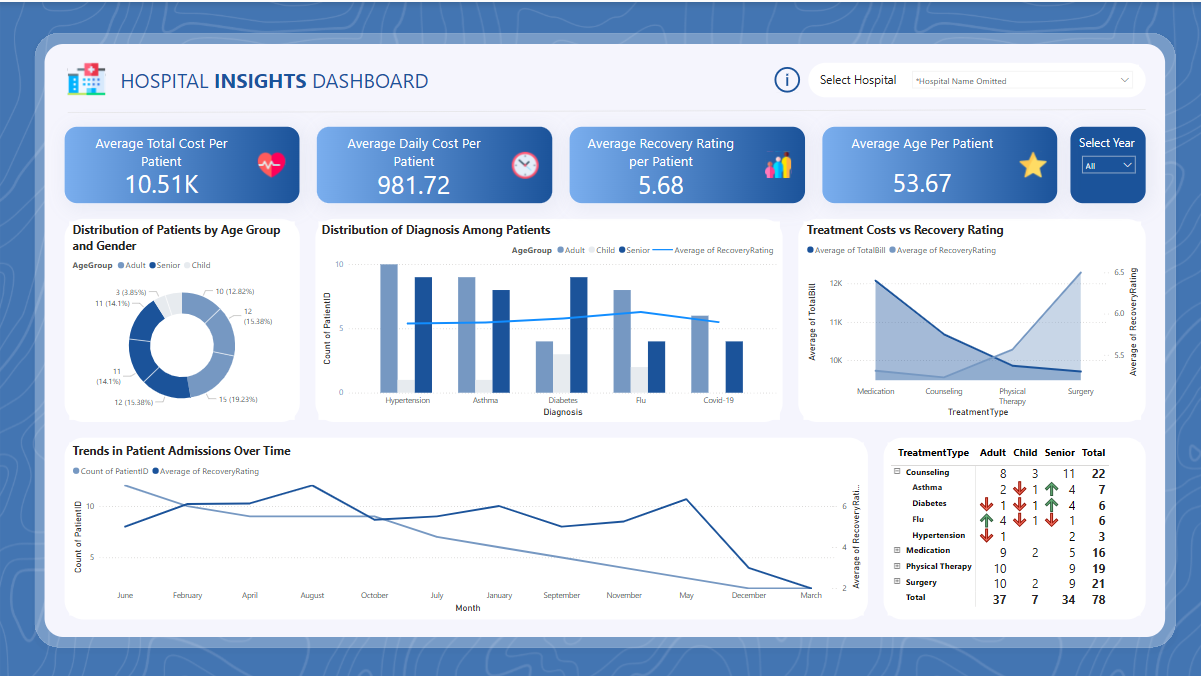

The page's visual inventory and layout, read from the dashboard file:
{"tool":"powerbi","page":{"name":"Hospital Insights Dahboard","canvas":[1920,1080],"ordinal":0},"visuals":[{"type":"textbox","box":[185.9,97.4,670,71.9],"z":1000},{"type":"donutChart","title":"Distribution of Patients by Age Group and Gender","fields":{"Category":["Sheet1.AgeGroup"],"Y":["CountNonNull(Sheet1.Age)"],"Series":["Sheet1.Gender"]},"box":[110.3,351.2,359.2,316.2],"z":3000},{"type":"lineClusteredColumnComboChart","title":"Distribution of Diagnosis Among Patients","fields":{"Category":["Sheet1.Diagnosis"],"Y":["CountNonNull(Sheet1.PatientID)"],"Y2":["Avg(Sheet1 (2).RecoveryRating)"],"Series":["Sheet1.AgeGroup"]},"box":[508.1,350.7,735.9,316.3],"z":4000},{"type":"areaChart","title":"Treatment Costs vs Recovery Rating","fields":{"Category":["Sheet1 (2).TreatmentType"],"Y":["Avg(Sheet1.TotalBill)"],"Y2":["Avg(Sheet1 (2).RecoveryRating)"]},"box":[1281.5,350.7,538.1,316.3],"z":5000},{"type":"pivotTable","fields":{"Rows":["Sheet1 (2).TreatmentType","Sheet1.Diagnosis"],"Columns":["Sheet1.AgeGroup"],"Values":["CountNonNull(Sheet1.PatientID)"]},"box":[1416.4,703,403.2,275.8],"z":6000},{"type":"lineChart","title":"Trends in Patient Admissions Over Time","fields":{"Y":["CountNonNull(Sheet1.PatientID)"],"Category":["Sheet1.Month"],"Y2":["Avg(Sheet1 (2).RecoveryRating)"]},"box":[110.9,703,1266.5,275.8],"z":7000},{"type":"card","title":"Average Total Cost Per Patient","fields":{"Values":["Avg(Sheet1.TotalBill)"]},"box":[139.4,211.3,235.3,101.9],"z":8000},{"type":"card","title":"Average Daily Cost Per Patient","fields":{"Values":["Avg(Sheet1 (2).DailyCost)"]},"box":[545.6,211.3,230.8,101.9],"z":9000},{"type":"card","title":"Average Recovery Rating per Patient","fields":{"Values":["Avg(Sheet1 (2).RecoveryRating)"]},"box":[923.3,211.3,260.8,101.9],"z":10000},{"type":"card","title":"Average Age Per Patient","fields":{"Values":["Avg(Sheet1.Age)"]},"box":[1353.4,211.3,236.8,125.9],"z":11000},{"type":"slicer","title":"Select Hospital","fields":{"Values":["Sheet1 (2).Hospital"]},"box":[1443.4,100.4,371.7,46.5],"z":12000},{"type":"slicer","title":"Select Year","fields":{"Values":["Sheet1.Year"]},"box":[1714.7,211.3,104.9,71.9],"z":13000},{"type":"textbox","box":[1301,104.9,142.4,39],"z":14000},{"type":"actionButton","box":[1227.8,97.4,54,53.1],"z":17000},{"type":"card","fields":{"Values":["Sum(Sheet1.Age)"]},"box":[1227.8,101.8,54,46],"z":17500}]}

Visuals, with their boxes in screenshot pixels (x1, y1, x2, y2), scaled from the page's 1920x1080 canvas onto the 1201x676 screenshot:
textbox: select_region(116, 61, 535, 106)
"Distribution of Patients by Age Group and Gender" donutChart: select_region(69, 220, 294, 418)
"Distribution of Diagnosis Among Patients" lineClusteredColumnComboChart: select_region(318, 220, 778, 417)
"Treatment Costs vs Recovery Rating" areaChart: select_region(802, 220, 1138, 417)
pivotTable - Sheet1 (2).TreatmentType x Sheet1.Diagnosis: select_region(886, 440, 1138, 613)
"Trends in Patient Admissions Over Time" lineChart: select_region(69, 440, 862, 613)
"Average Total Cost Per Patient" card: select_region(87, 132, 234, 196)
"Average Daily Cost Per Patient" card: select_region(341, 132, 486, 196)
"Average Recovery Rating per Patient" card: select_region(578, 132, 741, 196)
"Average Age Per Patient" card: select_region(847, 132, 995, 211)
"Select Hospital" slicer: select_region(903, 63, 1135, 92)
"Select Year" slicer: select_region(1073, 132, 1138, 177)
textbox: select_region(814, 66, 903, 90)
actionButton: select_region(768, 61, 802, 94)
card - Sum(Sheet1.Age): select_region(768, 64, 802, 93)
